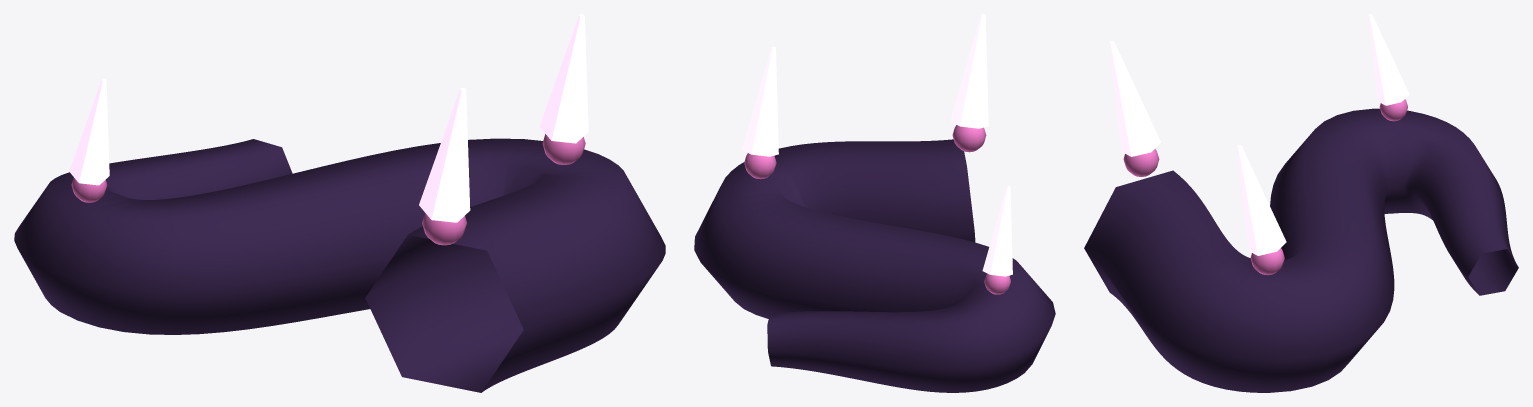
The model's file is SM_Keeper_Apep_Body_F08.fbx.
3 renders of one model, left to right at view 1: azimuth 30°, elevation 25°; view 2: azimuth 150°, elevation 25°; view 3: azimuth 270°, elevation 25°, orthographic. The views are drawn at different scales.
Parts seen in each view (by area): view 1: SM_Keeper_Apep_Body_F08; view 2: SM_Keeper_Apep_Body_F08; view 3: SM_Keeper_Apep_Body_F08.
Boxes of the visible parts, box(x1,y1,x2,y2) form: SM_Keeper_Apep_Body_F08: box(14, 14, 665, 392); SM_Keeper_Apep_Body_F08: box(694, 14, 1055, 392); SM_Keeper_Apep_Body_F08: box(1084, 14, 1518, 392).
Size of the model in its own units: 7.25 by 4.37 by 6.55.
